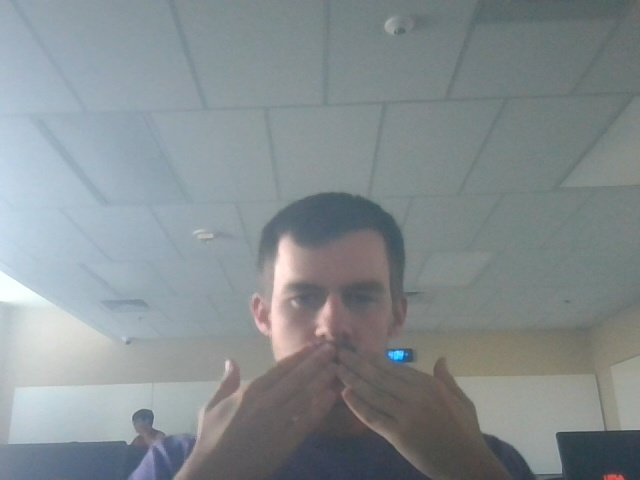thanks: (163, 337, 538, 480)
